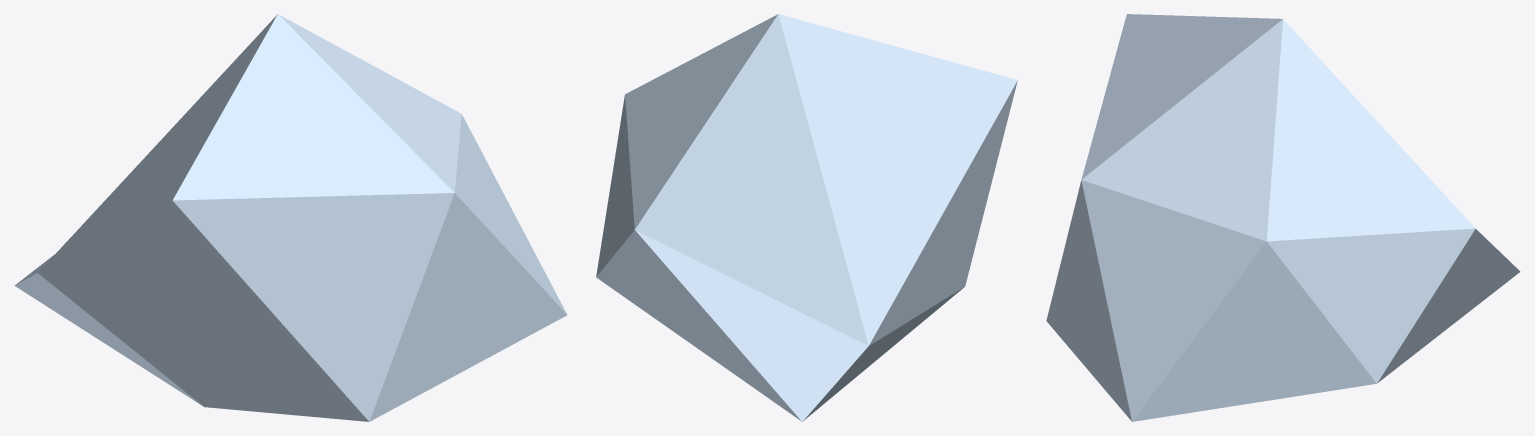
Rendered from Rock_3.fbx.
3 views of the same model, side by side, from view 1: azimuth 30°, elevation 25°; view 2: azimuth 150°, elevation 25°; view 3: azimuth 270°, elevation 25° (orthographic). The views are drawn at different scales.
Visible parts, largest first — view 1: Icosphere.001; view 2: Icosphere.001; view 3: Icosphere.001.
Part boxes in pixels (x1,y1,x2,y2): Icosphere.001: [14, 14, 567, 421]; Icosphere.001: [596, 14, 1017, 421]; Icosphere.001: [1046, 14, 1520, 421].
Bounding box in the file's own units: 177 × 137 × 183.
